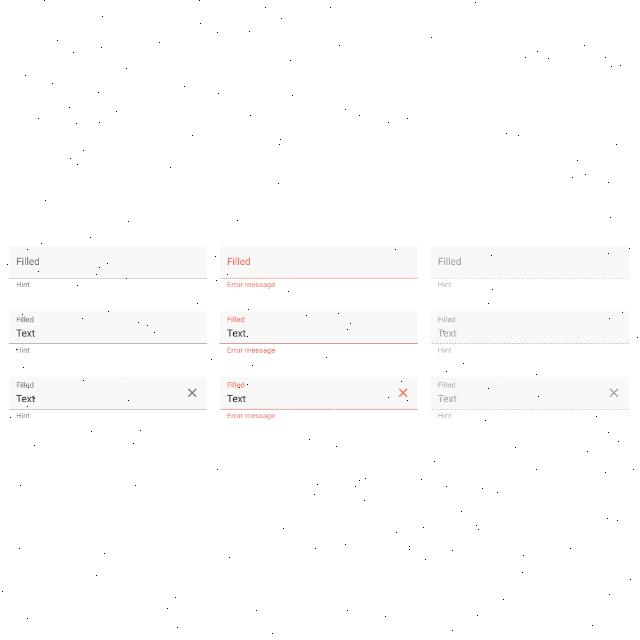VTextField: (218, 244, 420, 288), (218, 309, 420, 353), (218, 375, 420, 419), (430, 376, 632, 420), (430, 244, 628, 288), (9, 311, 208, 354), (8, 244, 208, 286), (430, 310, 630, 352), (8, 376, 208, 418)
